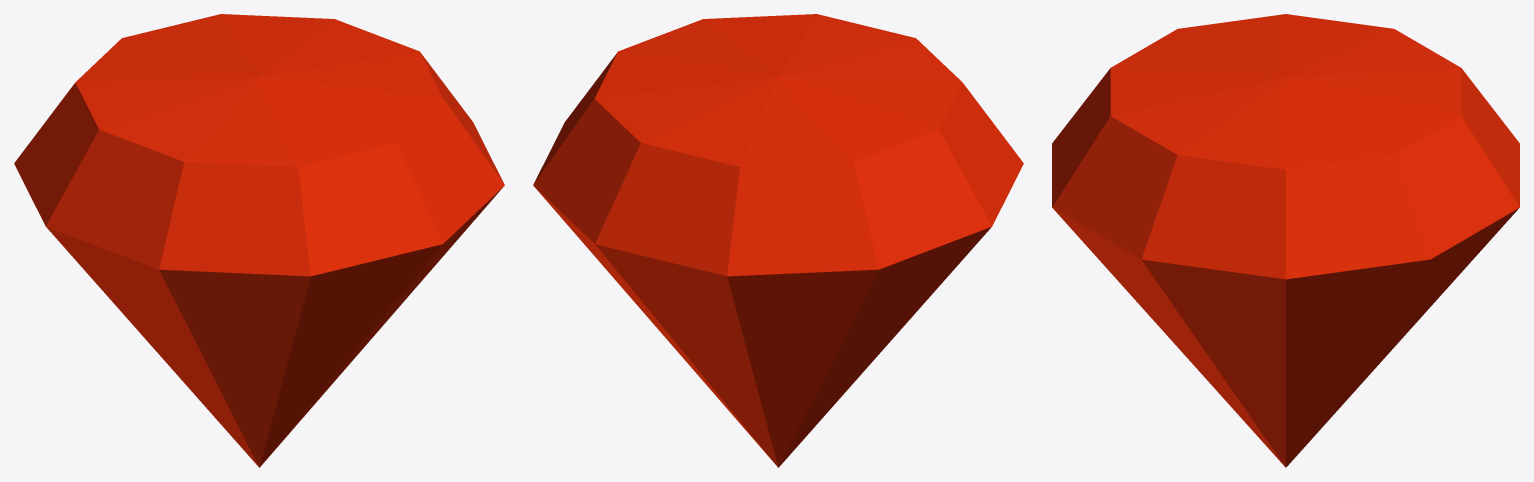
The model's file is gem5.fbx.
The picture shows the model from 3 angles, left to right: view 1: azimuth 30°, elevation 25°; view 2: azimuth 150°, elevation 25°; view 3: azimuth 270°, elevation 25°; orthographic projection.
Parts seen in each view (by area): view 1: diamond_level4.001; view 2: diamond_level4.001; view 3: diamond_level4.001.
Part boxes in pixels (<box>): diamond_level4.001: <box>14,14,504,467</box>; diamond_level4.001: <box>533,14,1023,467</box>; diamond_level4.001: <box>1052,14,1519,467</box>.
Size of the model in its own units: 0.88 by 0.77 by 0.8369.
